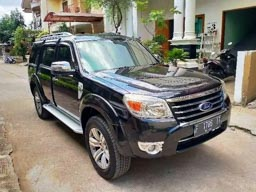plat: (196, 116, 221, 135)
